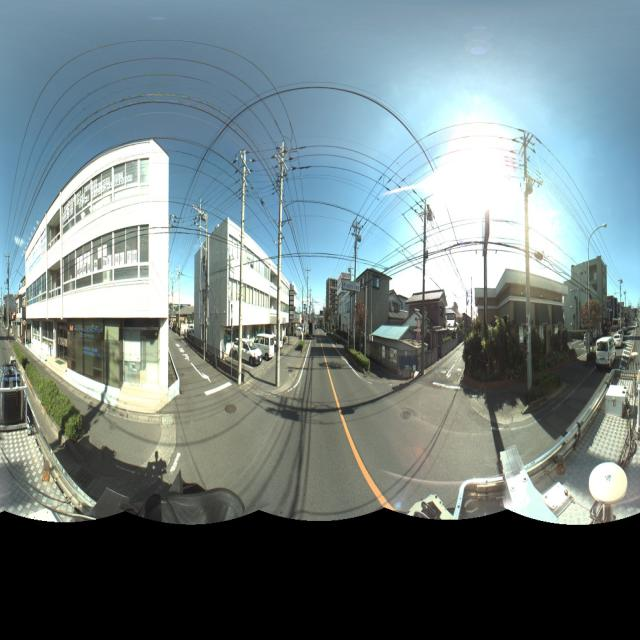b_1: (27, 138, 172, 382), (194, 222, 288, 364), (563, 260, 609, 336), (407, 284, 448, 339), (286, 280, 300, 346), (14, 275, 25, 341)
